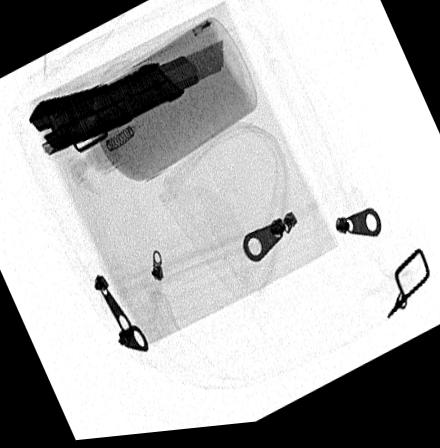Knife: (27, 45, 224, 154)
